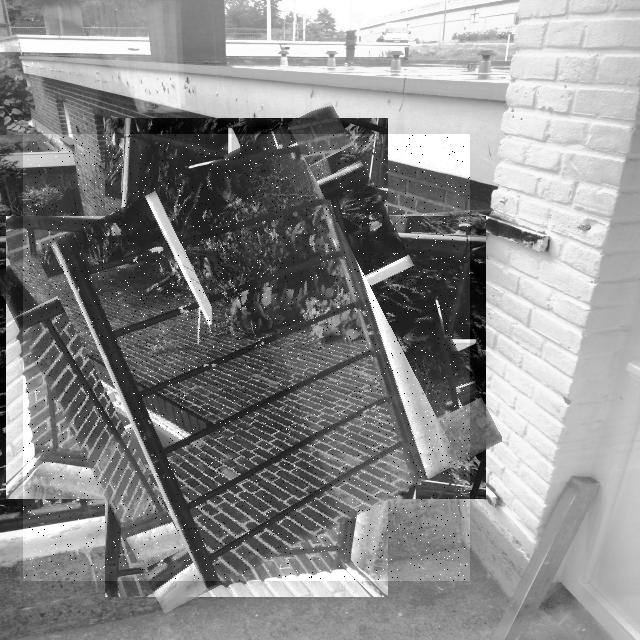fences: (23, 134, 470, 581)
